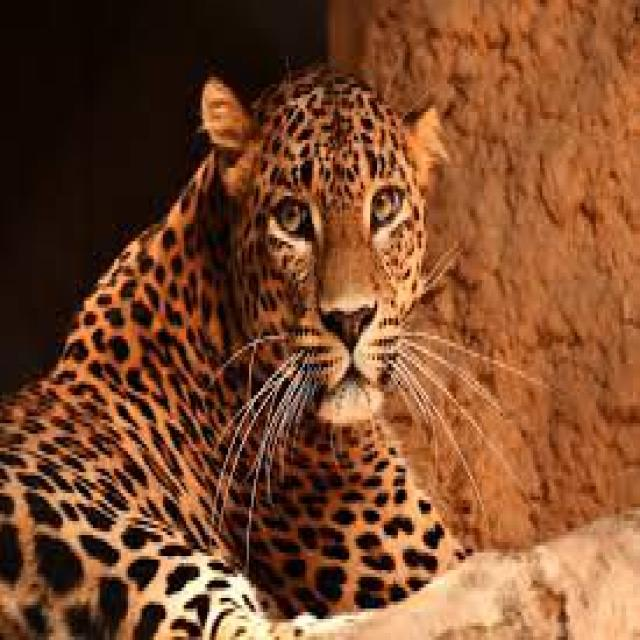Leopard: (0, 59, 440, 640)
